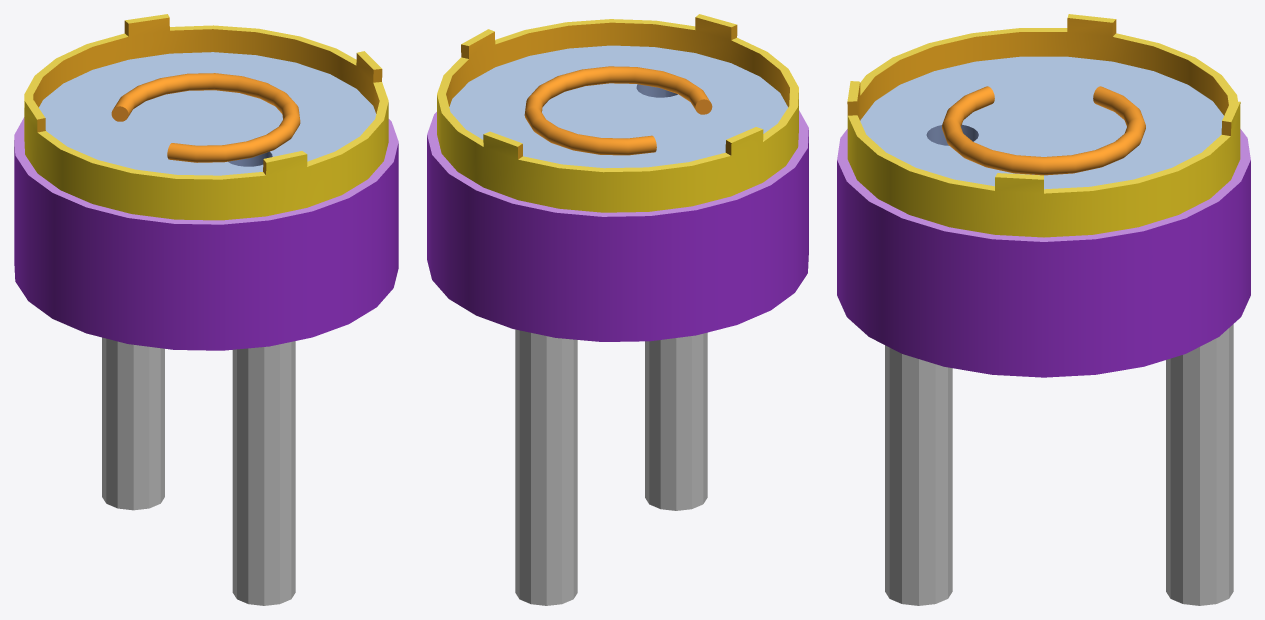
Rendered from map4.fbx.
The picture shows the model from 3 angles, left to right: view 1: azimuth 30°, elevation 25°; view 2: azimuth 150°, elevation 25°; view 3: azimuth 270°, elevation 25°; orthographic projection. The views are drawn at different scales.
Parts seen in each view (by area): view 1: polySurface2, polySurface1; view 2: polySurface2, polySurface1; view 3: polySurface2, polySurface1.
Part boxes in pixels (left/top/right/bottom): polySurface2: left=14, top=14, right=398, bottom=605; polySurface1: left=111, top=73, right=300, bottom=162; polySurface2: left=427, top=14, right=808, bottom=605; polySurface1: left=524, top=66, right=712, bottom=155; polySurface2: left=837, top=14, right=1250, bottom=605; polySurface1: left=942, top=86, right=1145, bottom=175.
Bounding box in the file's own units: 38.77 × 51.31 × 38.85.
